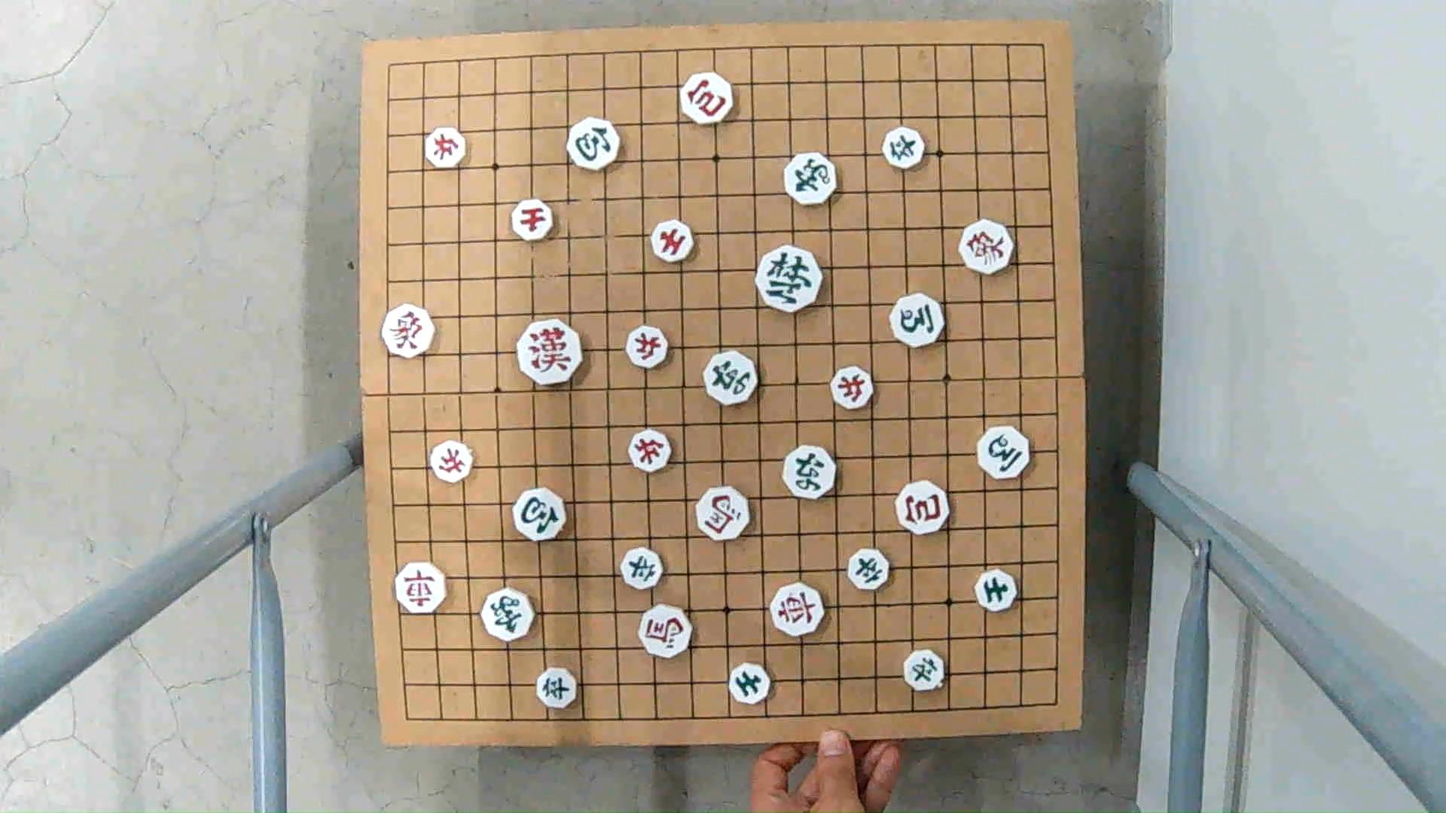cha_green: (779, 445, 838, 497), (703, 354, 760, 403)
cha_red: (770, 583, 827, 636), (394, 564, 450, 612)
jol_green: (881, 130, 929, 168), (901, 652, 947, 690), (847, 552, 892, 590), (621, 550, 661, 589), (537, 669, 578, 705)
jol_red: (427, 442, 473, 480), (426, 127, 467, 168), (626, 324, 667, 364), (629, 431, 670, 470), (831, 368, 872, 407)
ma_green: (887, 297, 944, 346), (974, 429, 1029, 478)
ma_red: (699, 490, 751, 540), (639, 608, 693, 656)
po_green: (511, 490, 570, 540), (566, 120, 621, 168)
po_red: (681, 76, 736, 125), (894, 484, 949, 533)
sa_green: (729, 665, 771, 705), (978, 570, 1016, 610)
sa_red: (650, 221, 697, 261), (511, 199, 552, 240)
sang_green: (480, 591, 535, 641), (782, 156, 837, 205)
sang_red: (958, 223, 1015, 272), (380, 309, 438, 357)
wang_green: (755, 249, 825, 309)
wang_red: (520, 324, 580, 380)
